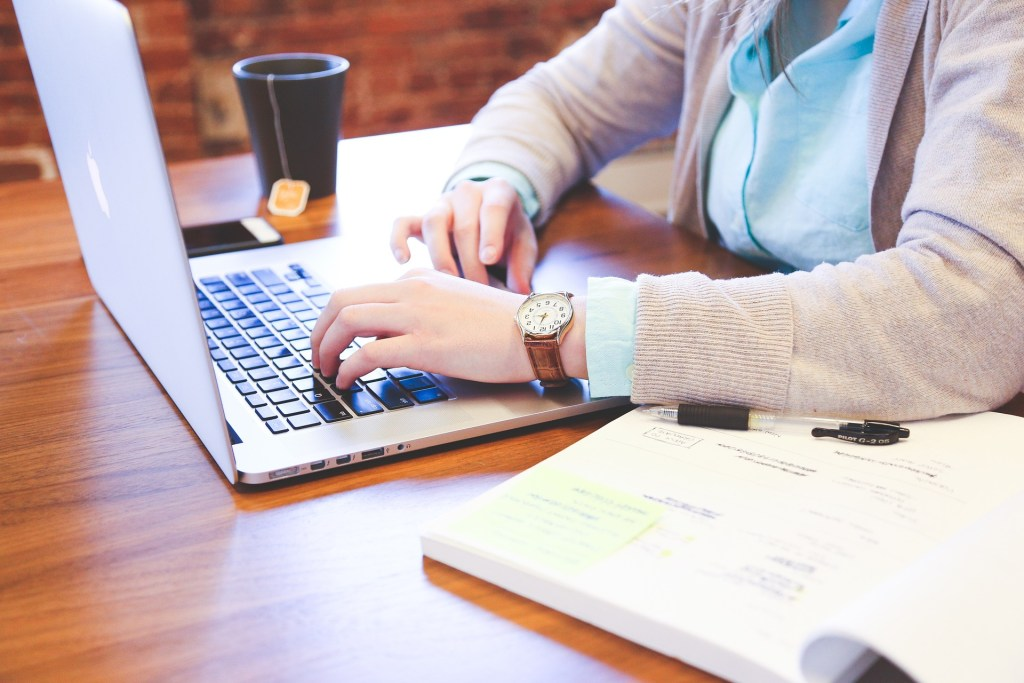Open Book: (405, 378, 1024, 683)
